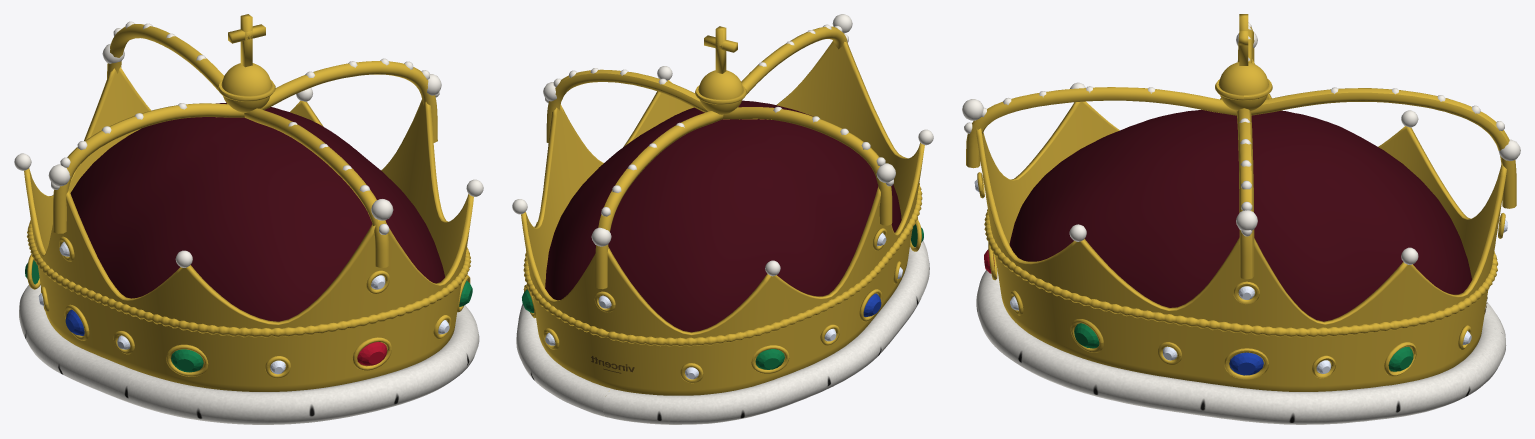
File: vincentt-royal-crown.glb
3 renders of one model, left to right at view 1: azimuth 30°, elevation 25°; view 2: azimuth 150°, elevation 25°; view 3: azimuth 270°, elevation 25°, orthographic. The views are drawn at different scales.
Parts seen in each view (by area): view 1: crown_velvet, crown_band, crown_ermine, crown_arch_metal, crown_beads, crown_bezels, crown_pearls, crown_arch_pearls, crown_gem_2, crown_gem_small, crown_gem_1; view 2: crown_velvet, crown_band, crown_ermine, crown_arch_metal, crown_beads, crown_bezels, crown_pearls, crown_arch_pearls, crown_gem_2, crown_gem_small; view 3: crown_velvet, crown_band, crown_ermine, crown_arch_metal, crown_beads, crown_bezels, crown_pearls, crown_arch_pearls, crown_gem_2, crown_gem_small, crown_gem_3.
Boxes of the visible parts, x1=… form: crown_velvet: x1=70, y1=102, x2=444, y2=321; crown_band: x1=24, y1=67, x2=473, y2=391; crown_ermine: x1=19, y1=285, x2=479, y2=424; crown_arch_metal: x1=53, y1=14, x2=437, y2=267; crown_beads: x1=27, y1=220, x2=471, y2=337; crown_bezels: x1=27, y1=236, x2=470, y2=378; crown_pearls: x1=14, y1=43, x2=483, y2=267; crown_arch_pearls: x1=51, y1=21, x2=439, y2=234; crown_gem_2: x1=25, y1=260, x2=472, y2=372; crown_gem_small: x1=38, y1=242, x2=449, y2=374; crown_gem_1: x1=357, y1=342, x2=387, y2=365; crown_velvet: x1=545, y1=100, x2=901, y2=332; crown_band: x1=521, y1=40, x2=924, y2=395; crown_ermine: x1=516, y1=240, x2=929, y2=424; crown_arch_metal: x1=546, y1=26, x2=892, y2=289; crown_beads: x1=523, y1=183, x2=922, y2=346; crown_bezels: x1=523, y1=219, x2=921, y2=383; crown_pearls: x1=512, y1=14, x2=933, y2=276; crown_arch_pearls: x1=545, y1=24, x2=893, y2=216; crown_gem_2: x1=522, y1=224, x2=923, y2=369; crown_gem_small: x1=545, y1=232, x2=902, y2=379; crown_velvet: x1=1009, y1=109, x2=1472, y2=321; crown_band: x1=974, y1=59, x2=1506, y2=391; crown_ermine: x1=976, y1=266, x2=1506, y2=424; crown_arch_metal: x1=966, y1=14, x2=1516, y2=279; crown_beads: x1=984, y1=209, x2=1497, y2=337; crown_bezels: x1=977, y1=172, x2=1505, y2=379; crown_pearls: x1=962, y1=31, x2=1520, y2=264; crown_arch_pearls: x1=964, y1=22, x2=1504, y2=236; crown_gem_2: x1=1074, y1=323, x2=1413, y2=371; crown_gem_small: x1=974, y1=179, x2=1507, y2=373; crown_gem_3: x1=1229, y1=352, x2=1263, y2=375.
Size of what is drawn, in the model's own units: 0.1863 by 0.1559 by 0.2312.
9 materials, 2 textured.
